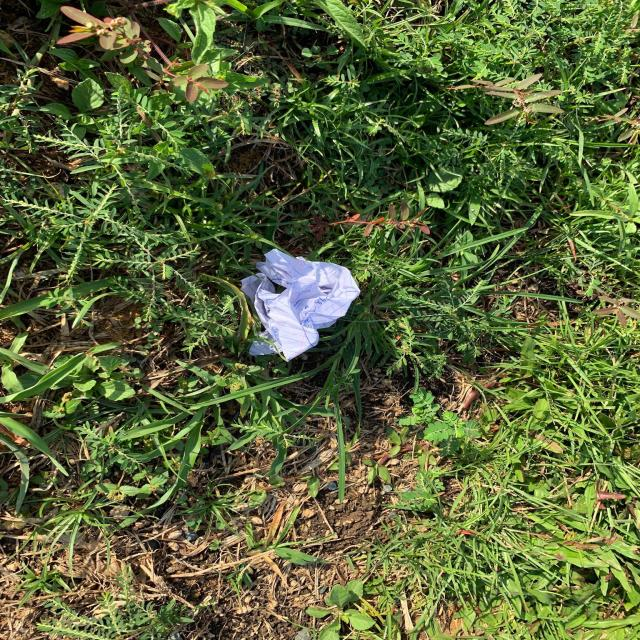litter: (240, 248, 362, 362)
